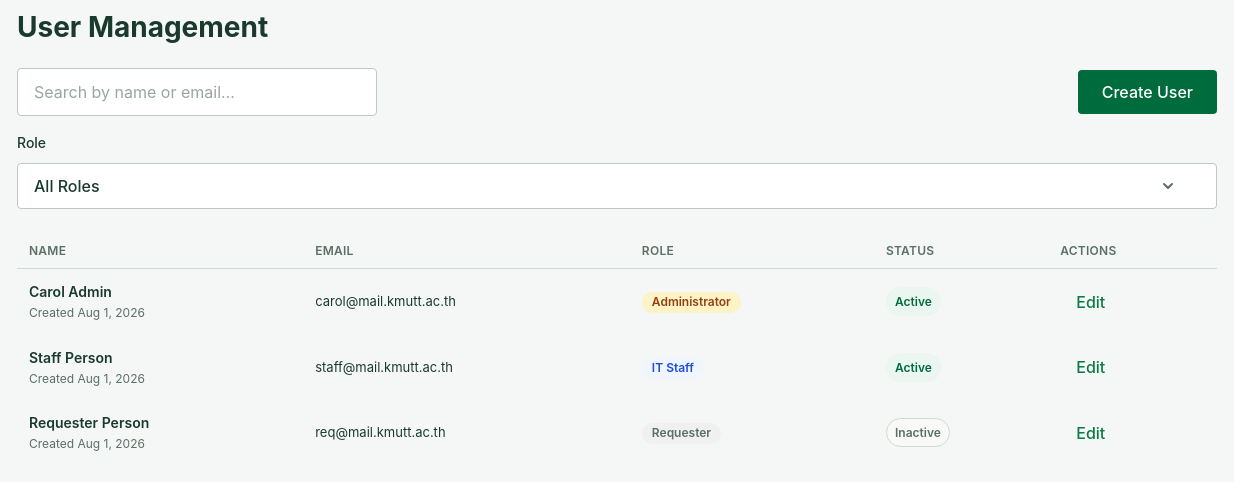
UserList (UI-11) › debounces search, combines with the role filter, and clears filters
The image size is (1234, 482).
Expected: the table with test id "users-table" is shown, [17,233,1217,466]
Type "carol" into the search field with test id "user-search-input" at point(197, 92), box [17,68,377,116]
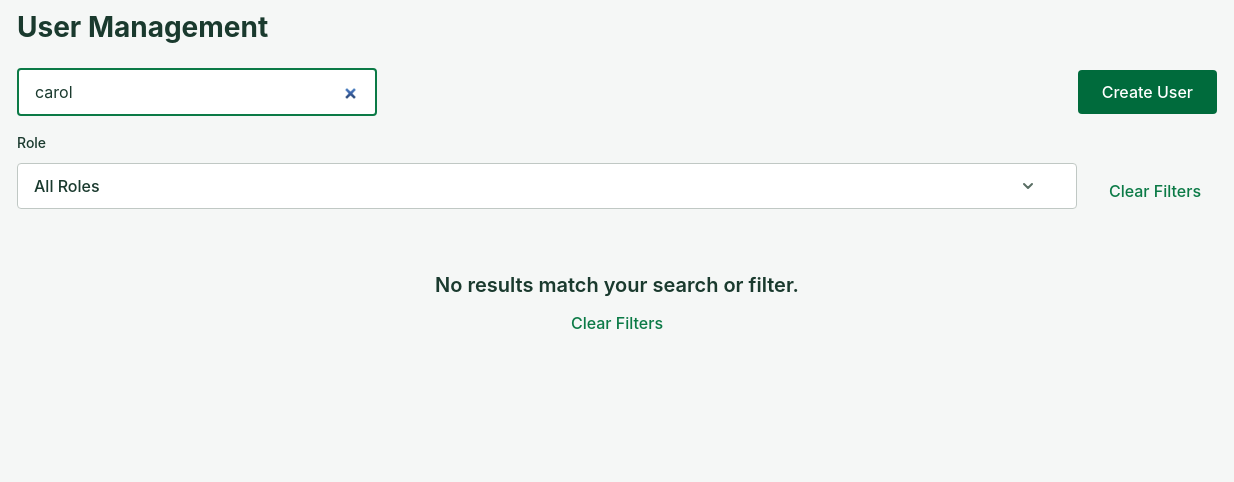
Click the button with test id "user-filter-role" at point(67, 186), box [17,163,1077,209]
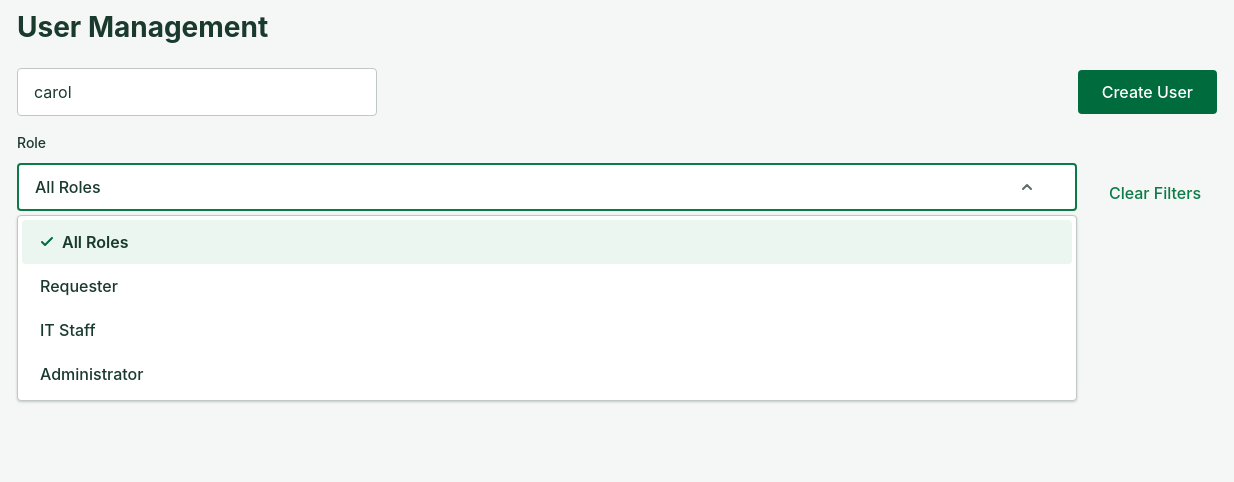
Click the button "Administrator" at point(92, 374), box [22,352,1072,396]
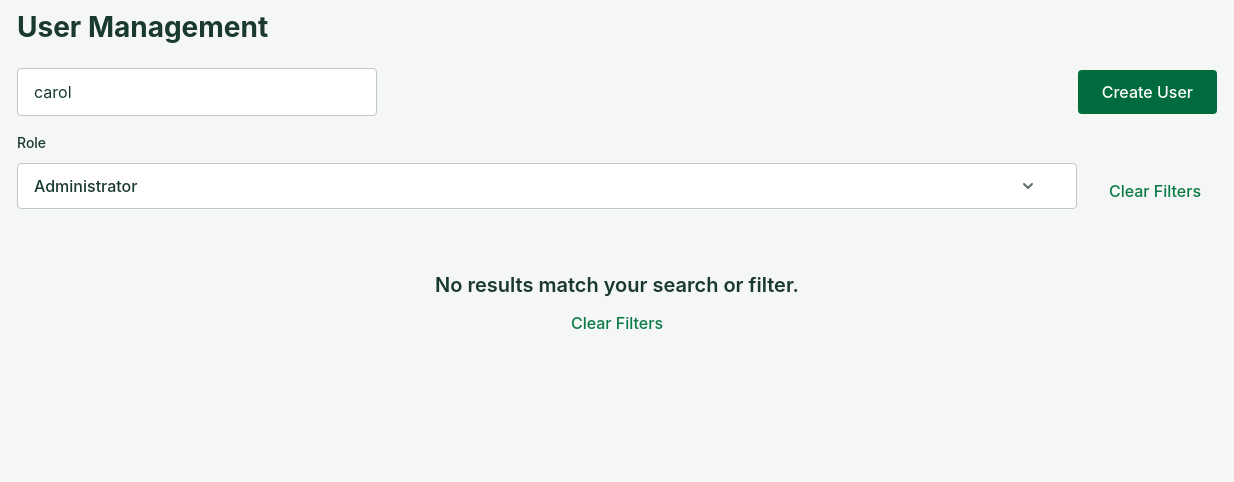
Result: the button with test id "user-clear-filters-btn" is shown
Click the button with test id "user-clear-filters-btn" at point(1155, 191), box [1093,173,1217,209]
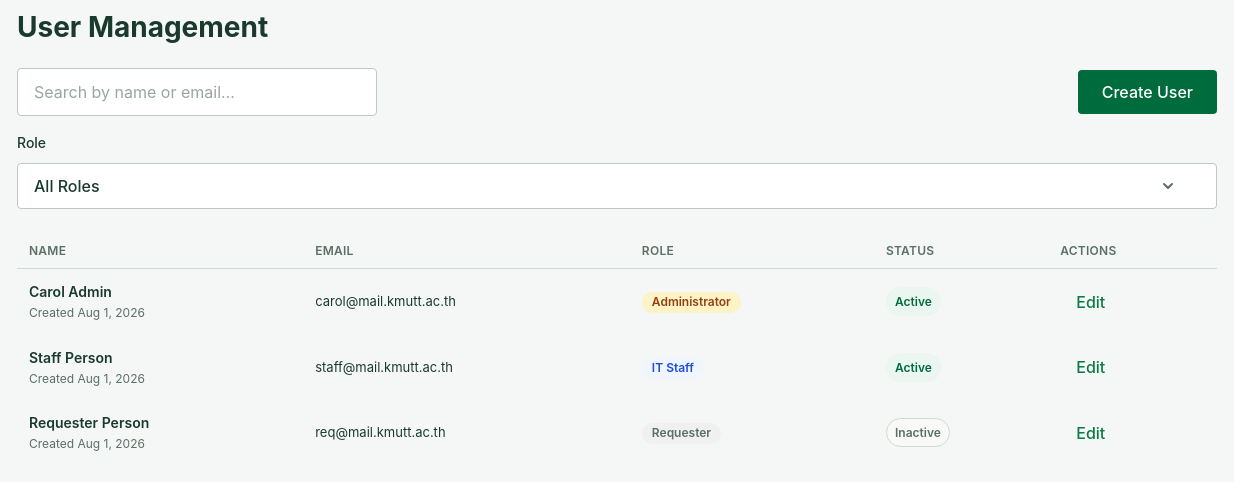
Result: the button with test id "user-clear-filters-btn" is gone
